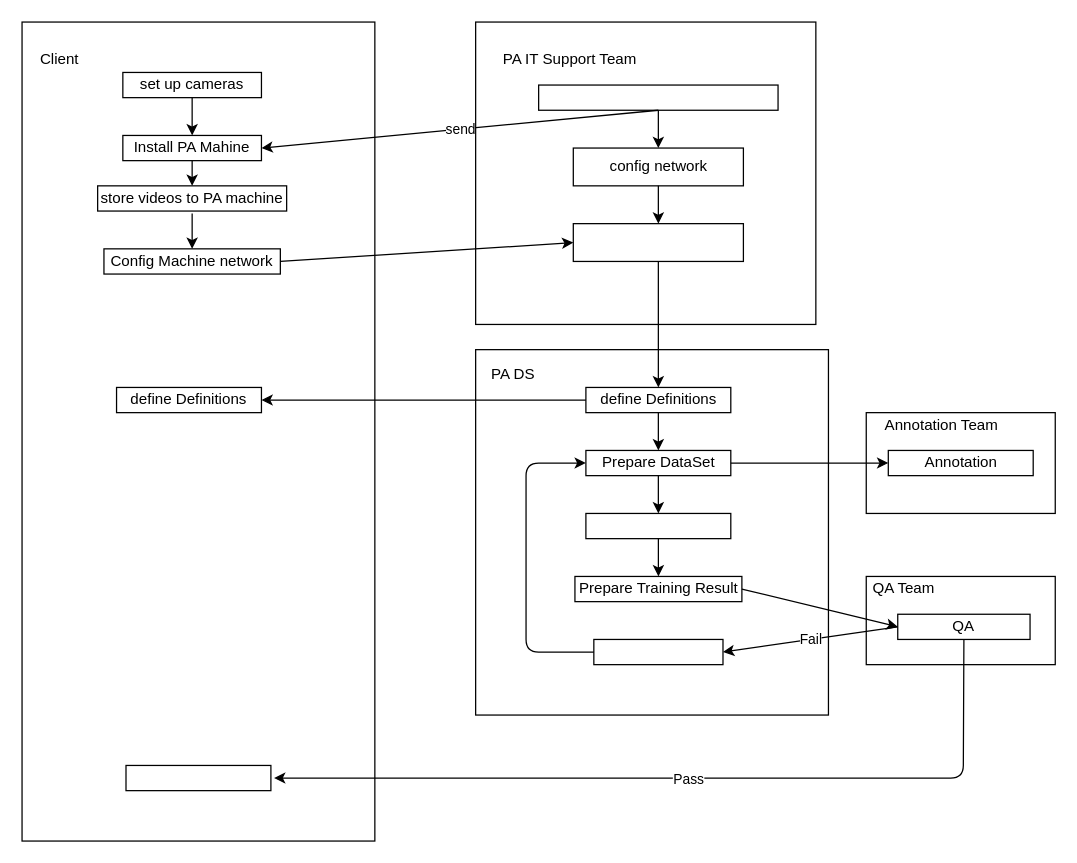
The diagram is 1077 pixels wide and 863 high, and some of its shapes have lost their labels. The shapes that lost their labels are listed below. From the top down, each one's centre as x and y in pixels, then its label:
the point at 657,97: Prepare machine to store videos
the point at 657,241: Get Videos
the point at 658,525: Start Training
the point at 658,651: Finetune
the point at 198,777: User QA
